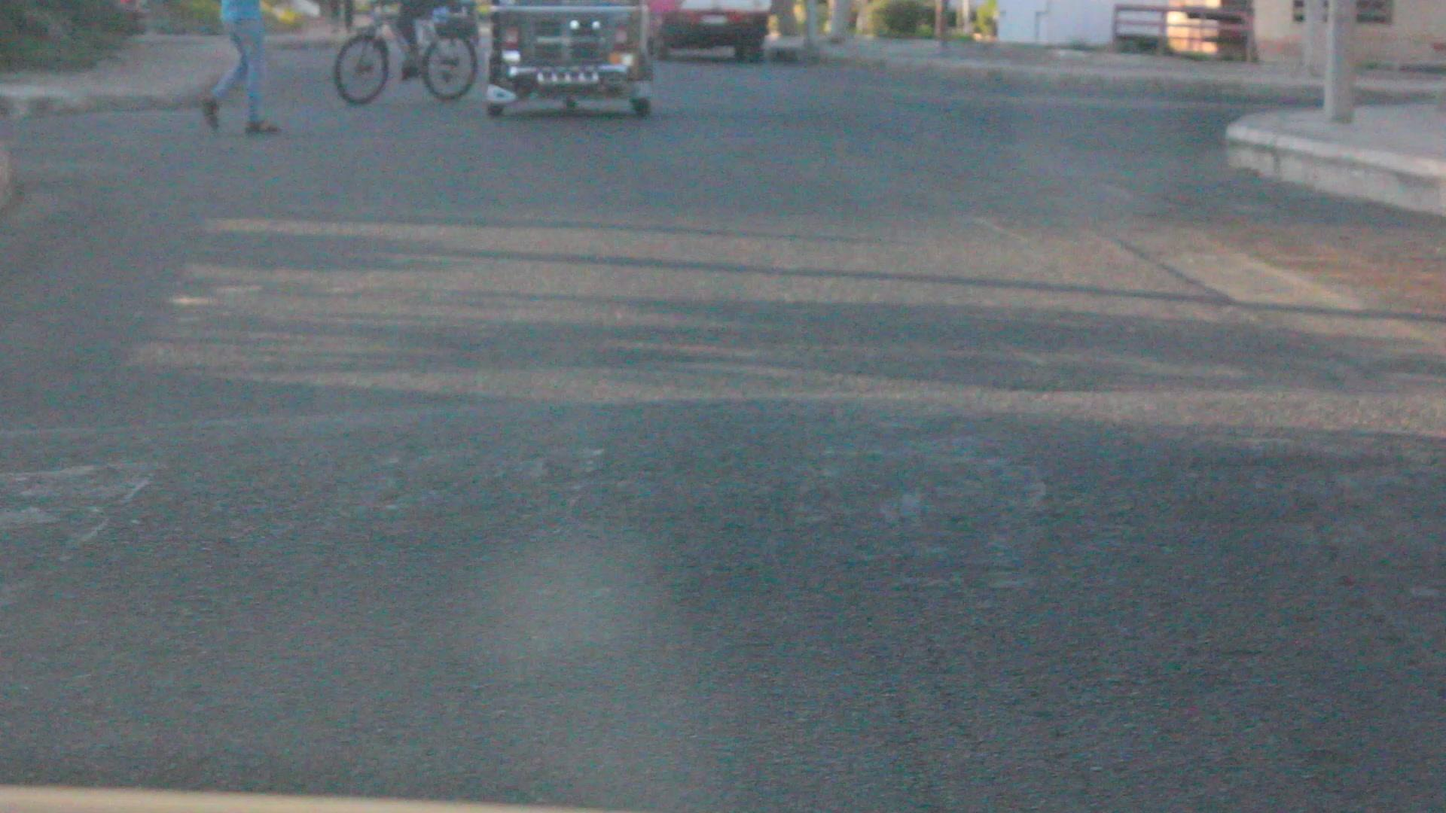Bump: (0, 437, 1446, 614)
